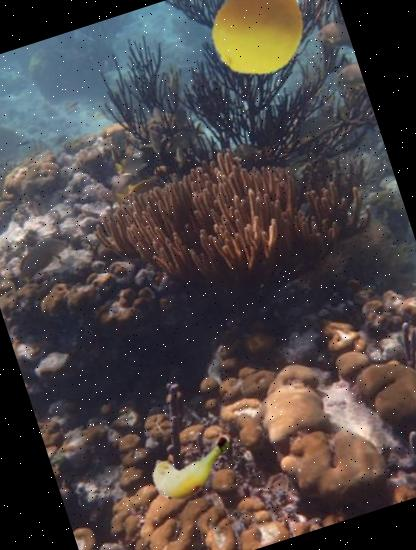Banana: (138, 412, 240, 514)
Peach: (198, 0, 321, 91)
